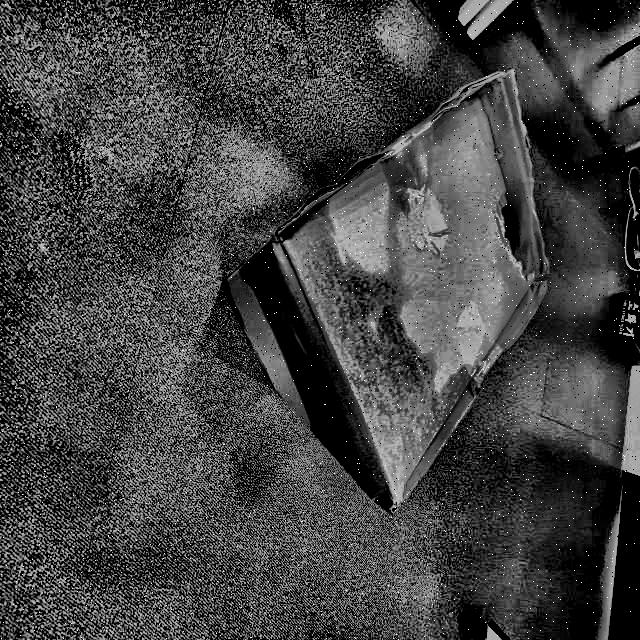box: (222, 59, 557, 522)
hole: (478, 174, 560, 290)
wet: (248, 202, 483, 499)
